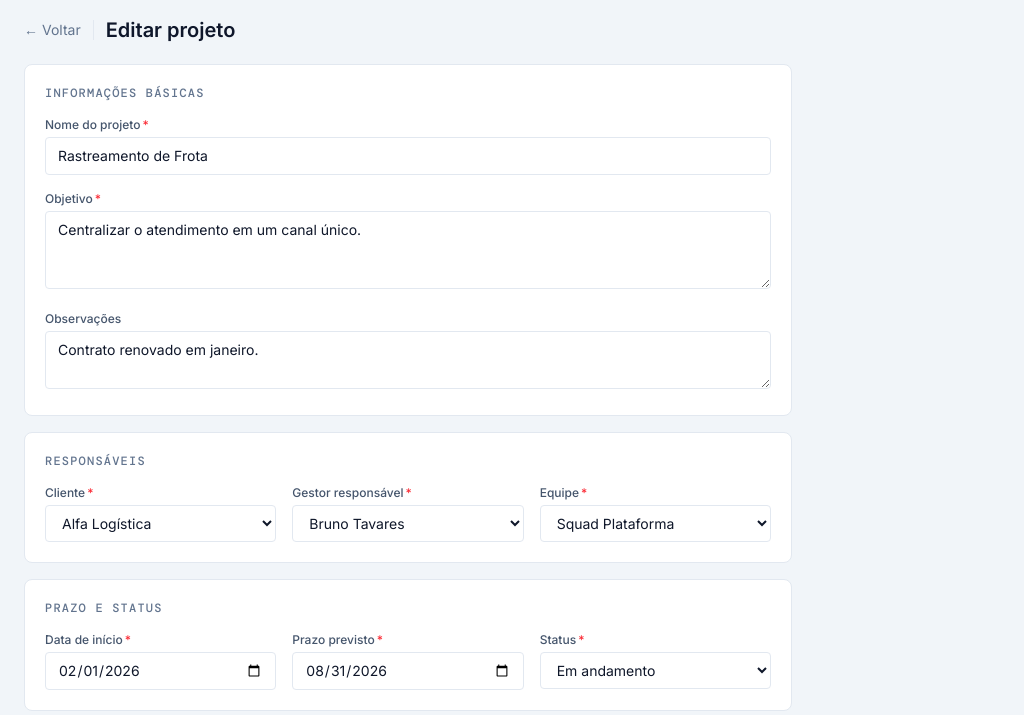
Test: atualização de projeto (RF06) › mostra a falha da API sem perder as alterações
The image size is (1024, 715).
Replace the text in the field labelled "Nome do projeto*" with "Nome alterado" at (408, 156), box [45,137,771,175]
(page scrolled)
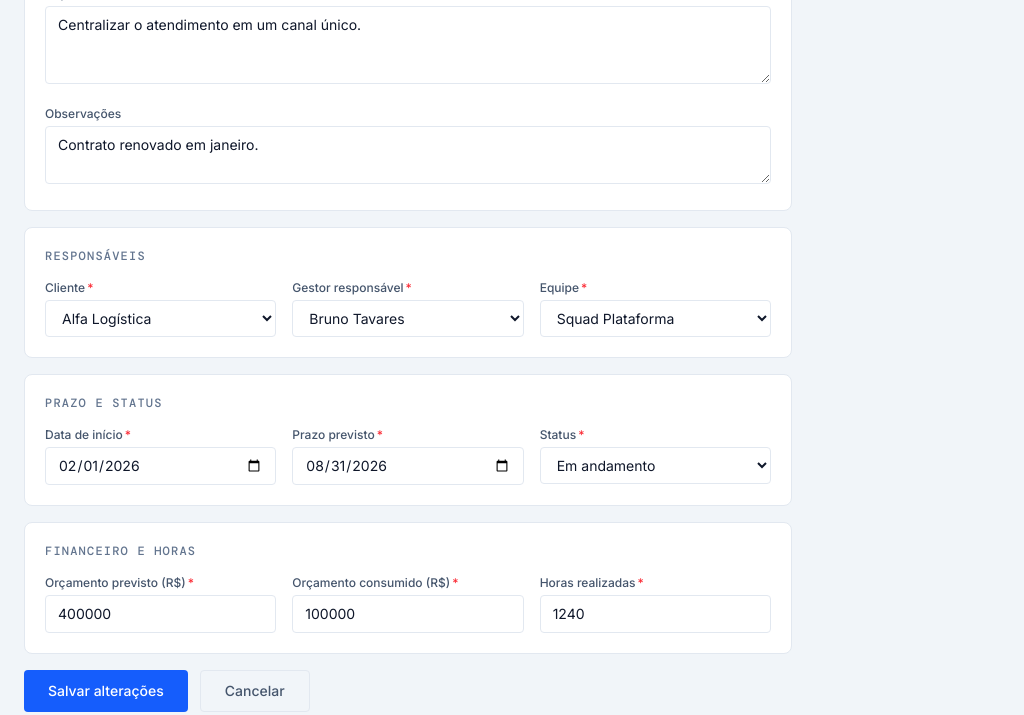
Click the button "Salvar alterações".
click(106, 691)  # box [24,670,188,712]
(page scrolled)
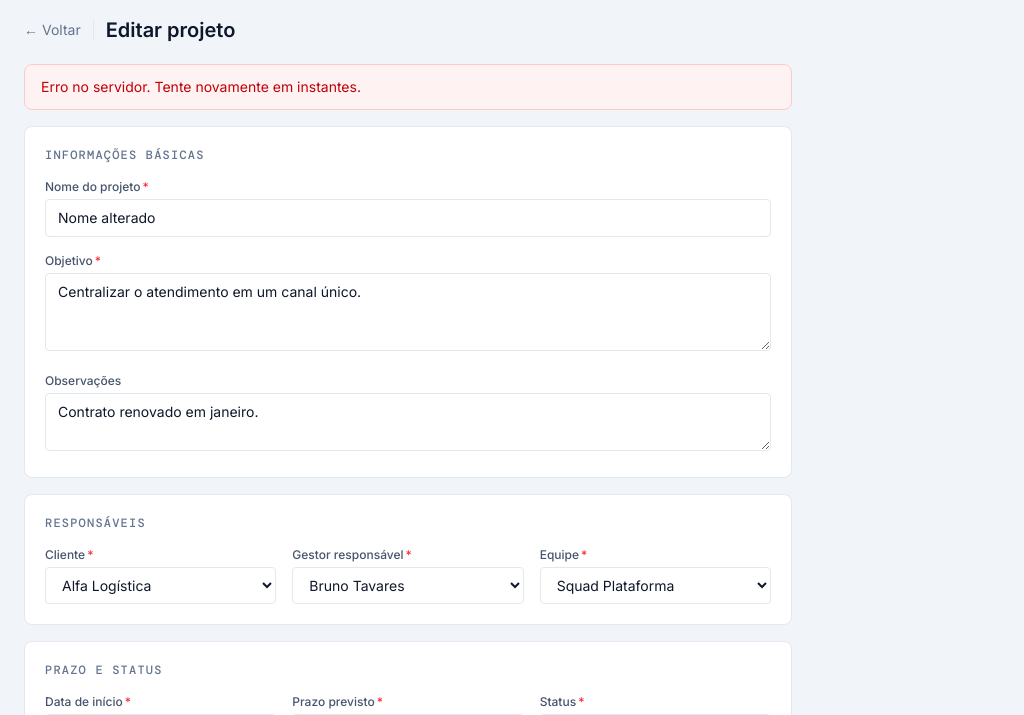
Now the message reads "Erro no servidor. Tente novamente em instantes.", box [41,78,361,95]
